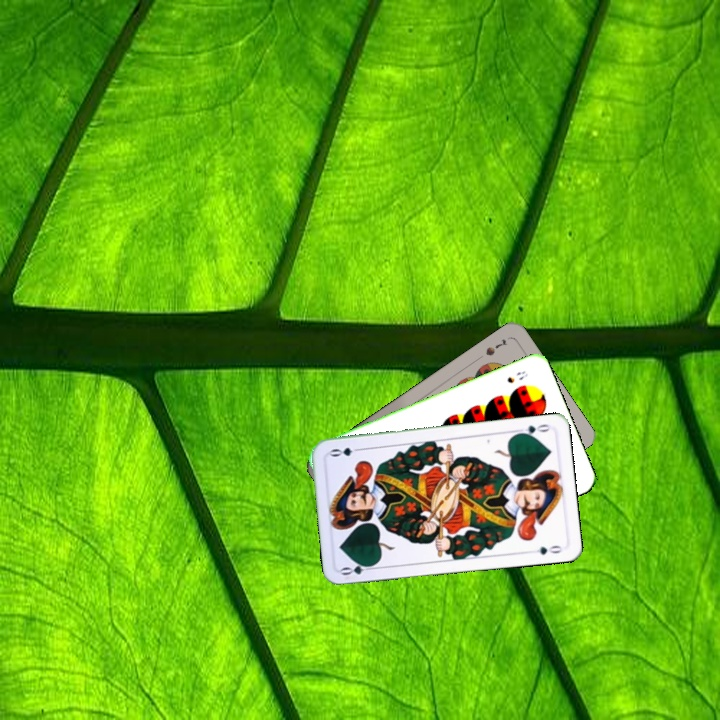GO: (512, 420, 553, 439), (337, 559, 378, 578)
S7: (481, 335, 510, 358)
S8: (503, 367, 530, 386)
